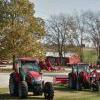Tractor: (6, 48, 70, 100)
